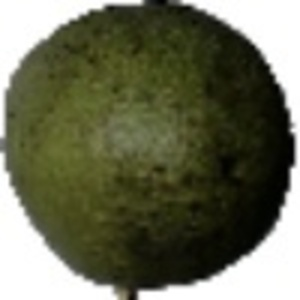abacate: (4, 1, 296, 288)
